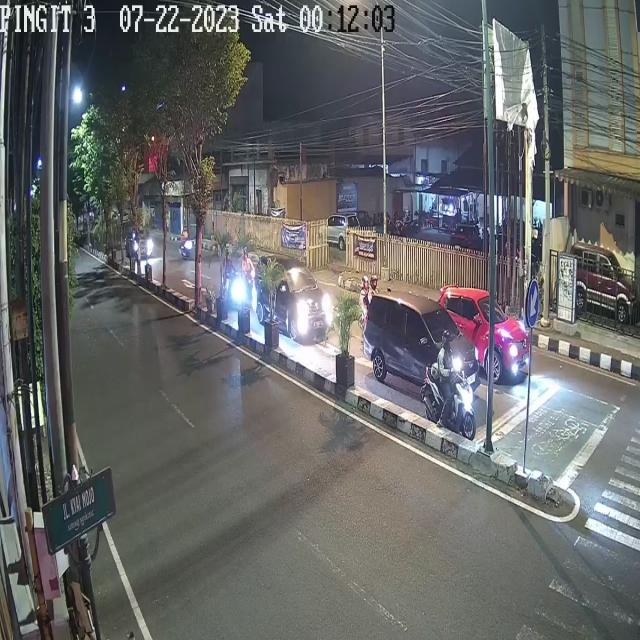car: (362, 293, 480, 399), (432, 281, 535, 385), (254, 257, 332, 342), (125, 227, 155, 262)
motorcycle: (424, 332, 476, 438), (219, 243, 243, 317), (359, 276, 378, 322), (240, 250, 254, 310), (180, 227, 192, 263)
